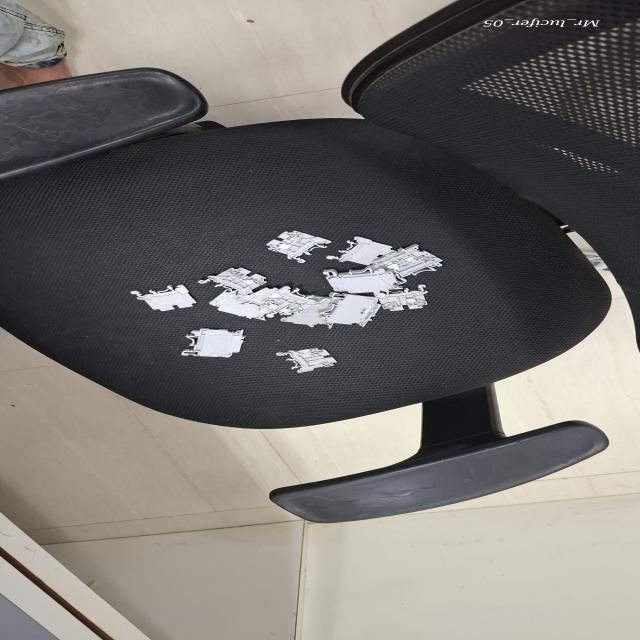Inverted: (129, 284, 199, 317)
Pass: (244, 230, 334, 264), (192, 266, 274, 298), (260, 285, 332, 314)
Reject: (273, 346, 340, 376), (372, 284, 430, 312)
